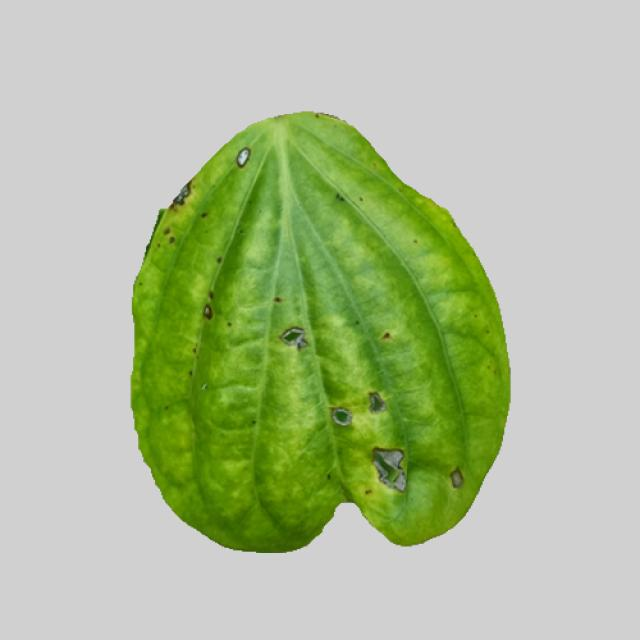yellow-mottle-virus: (118, 123, 517, 555)
